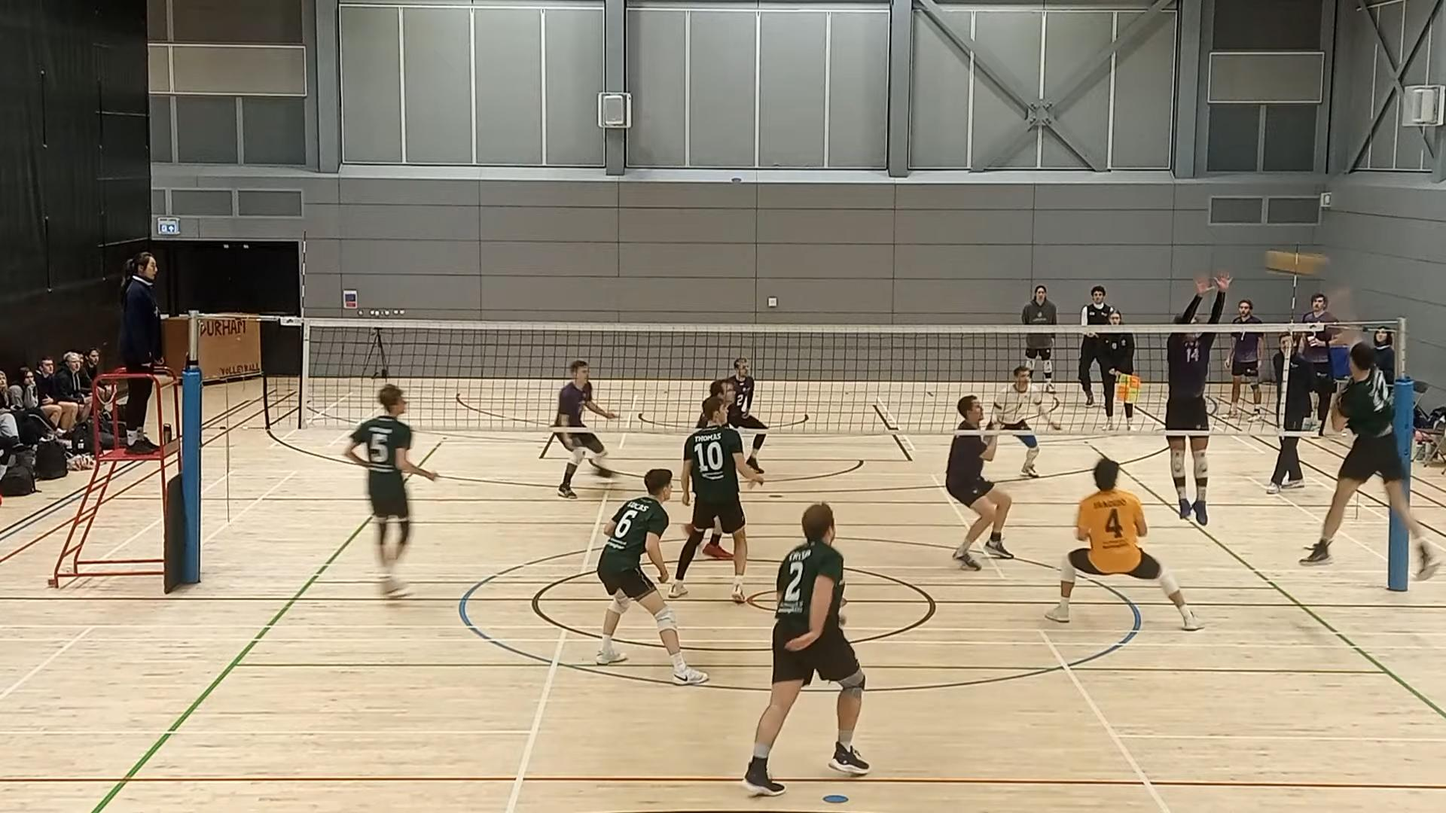attacco: (1297, 285, 1435, 578)
muro: (1150, 271, 1226, 529)
